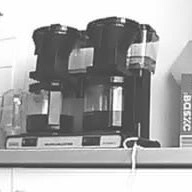not empty coffee: (79, 73, 138, 136)
